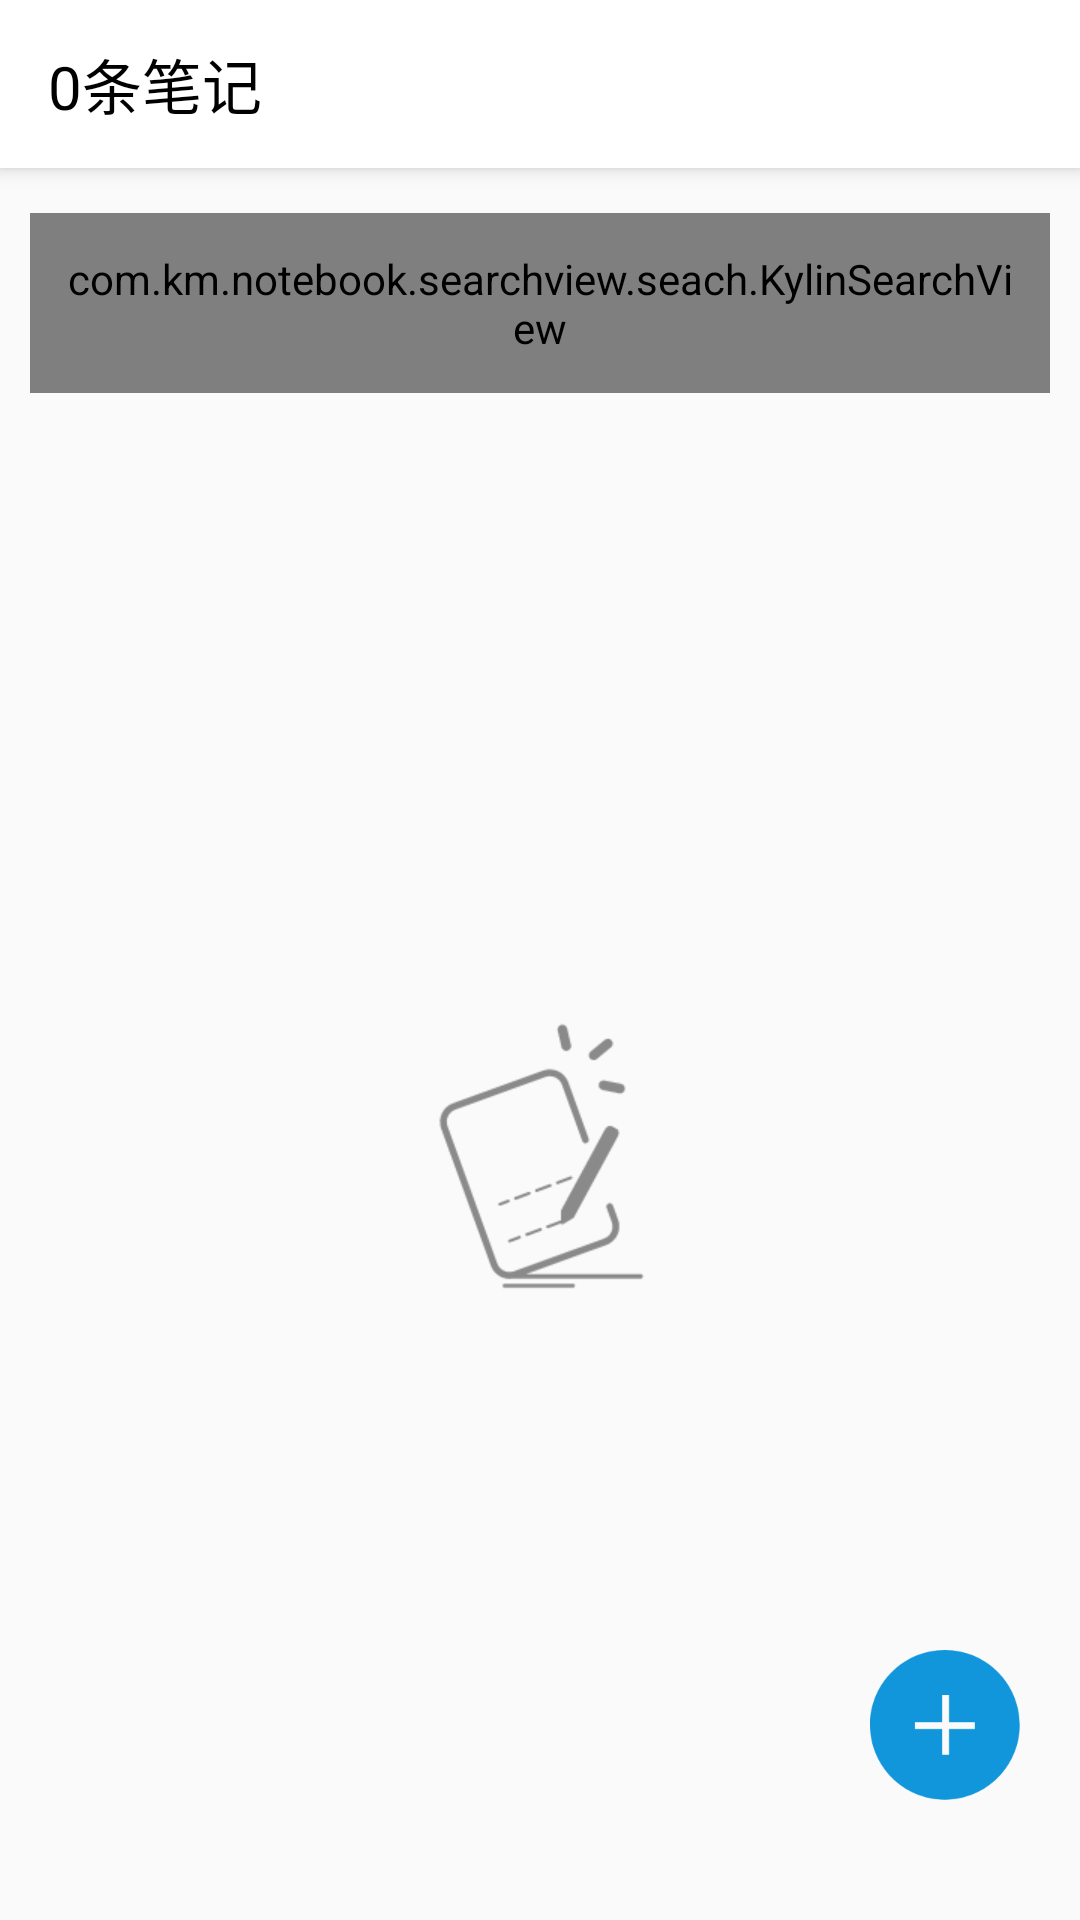

Icon bounding boxes for this 1080px×1920px phone screenshot, format (x1, y1, x2, y2):
add: (870, 1650, 1020, 1800)
nodata: (439, 1024, 644, 1288)
